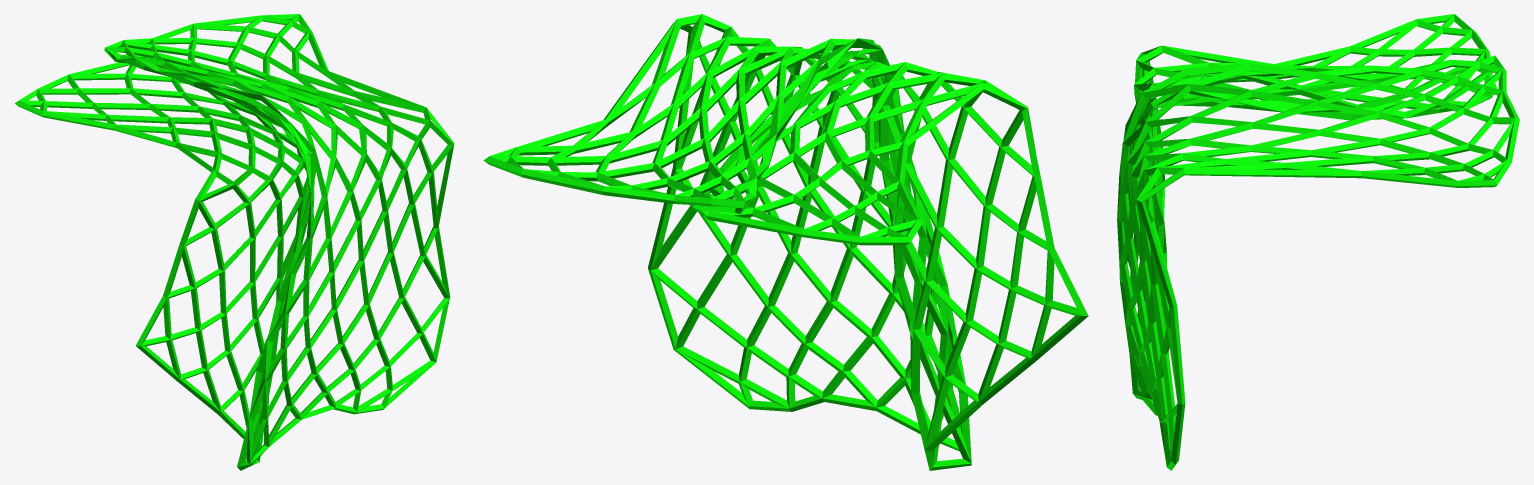
File: SM_Fishing_Net_Folded_B.fbx
3 views of the same model, side by side, from view 1: azimuth 30°, elevation 25°; view 2: azimuth 150°, elevation 25°; view 3: azimuth 270°, elevation 25° (orthographic). The views are drawn at different scales.
Visible parts, largest first — view 1: fishing-net-folded-b; view 2: fishing-net-folded-b; view 3: fishing-net-folded-b.
Part boxes in pixels (bbox=[...]): fishing-net-folded-b: bbox=[15, 14, 454, 470]; fishing-net-folded-b: bbox=[483, 14, 1088, 470]; fishing-net-folded-b: bbox=[1117, 14, 1519, 470].
Size of the model in its own units: 0.9722 by 0.9428 by 0.9091.
